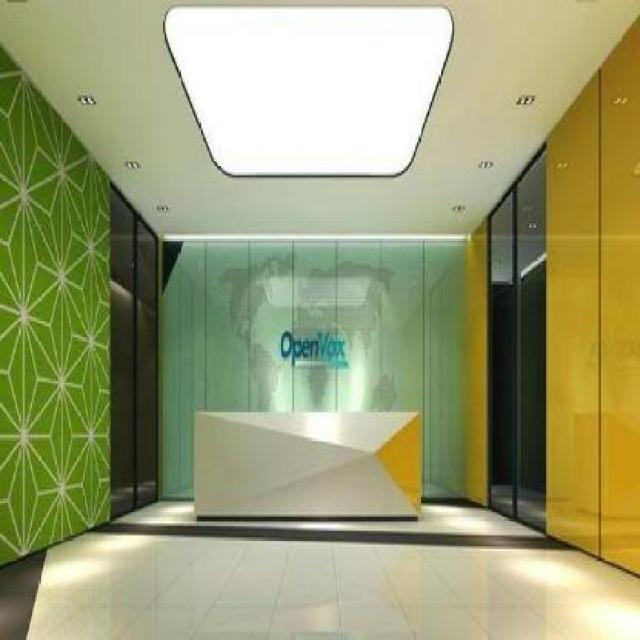frontdesk: (189, 392, 423, 546)
